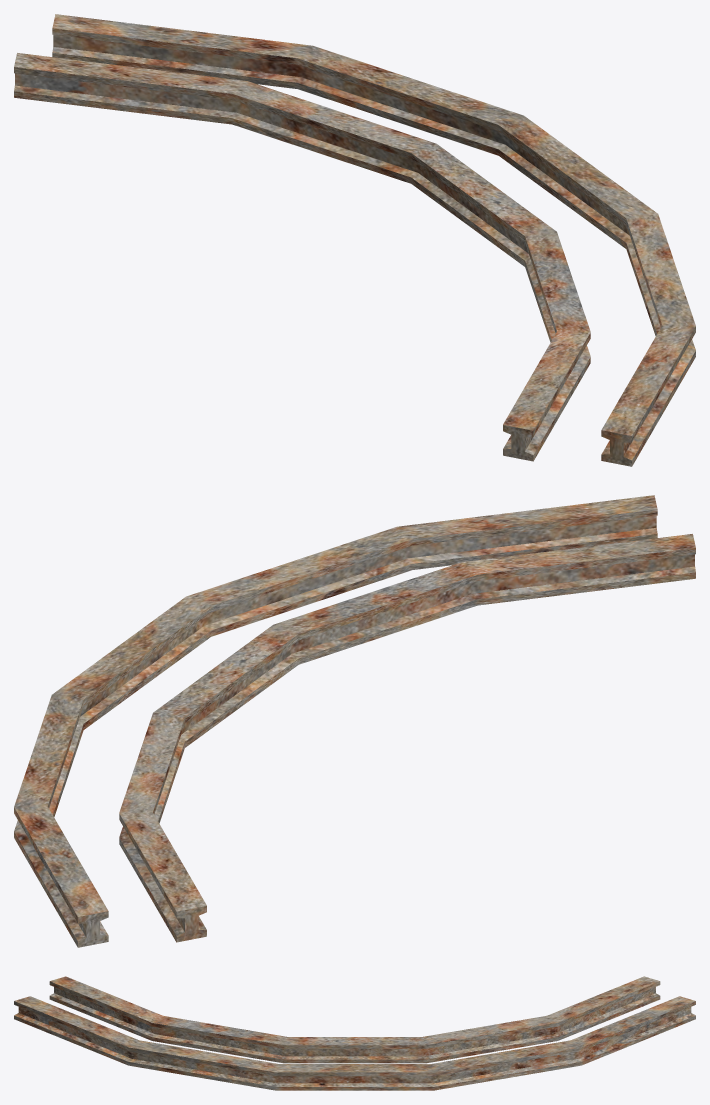
The model's file is mineRails_90.FBX.
3 views of the same model, one above another, from view 1: azimuth 30°, elevation 25°; view 2: azimuth 150°, elevation 25°; view 3: azimuth 270°, elevation 25° (orthographic). The views are drawn at different scales.
Parts seen in each view (by area): view 1: mineRails; view 2: mineRails; view 3: mineRails.
Part boxes in pixels (box(x1,y1,x2,y2)): mineRails: box(14, 14, 695, 466); mineRails: box(14, 495, 695, 947); mineRails: box(14, 976, 695, 1090).
Bounding box in the file's own units: 158 × 13.93 × 473.
Materials: 1 (1 with a texture image).
